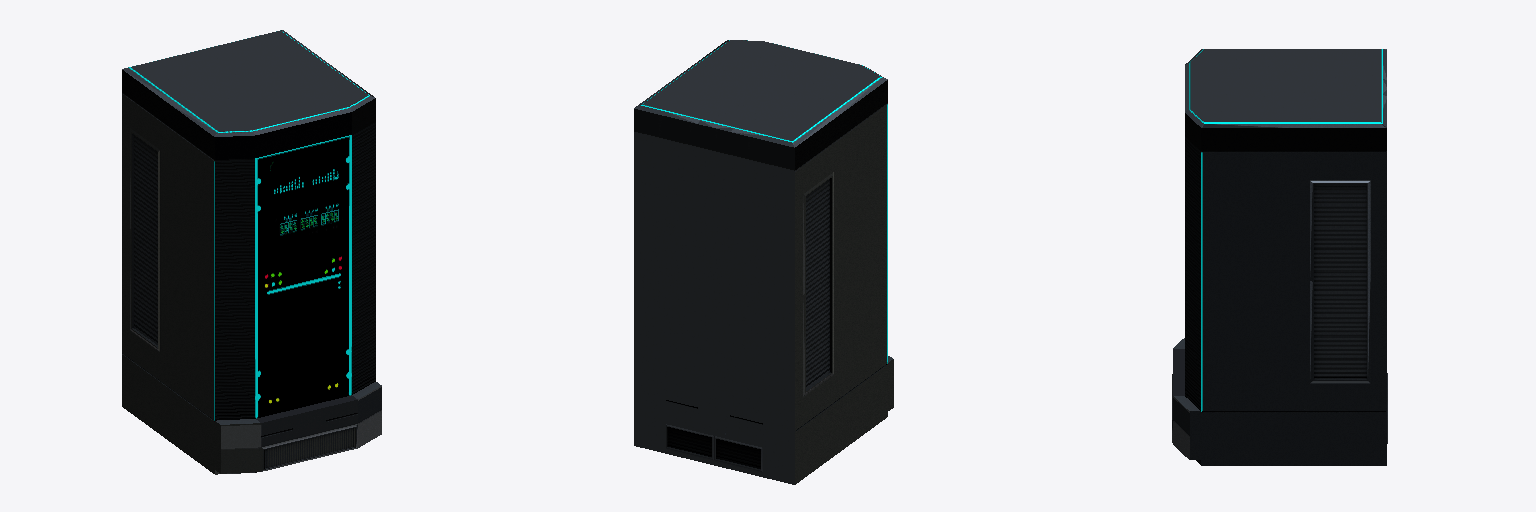
3 renders of one model, left to right at view 1: azimuth 30°, elevation 25°; view 2: azimuth 150°, elevation 25°; view 3: azimuth 270°, elevation 25°, orthographic.
Visible parts, largest first — view 1: Cube; view 2: Cube; view 3: Cube.
Boxes of the visible parts, box(x1,y1,x2,y2) form: Cube: box(122, 30, 381, 474); Cube: box(634, 40, 893, 484); Cube: box(1172, 49, 1387, 465).
Bounding box in the file's own units: 2.02 × 4.04 × 2.32.
6 materials, 1 textured.